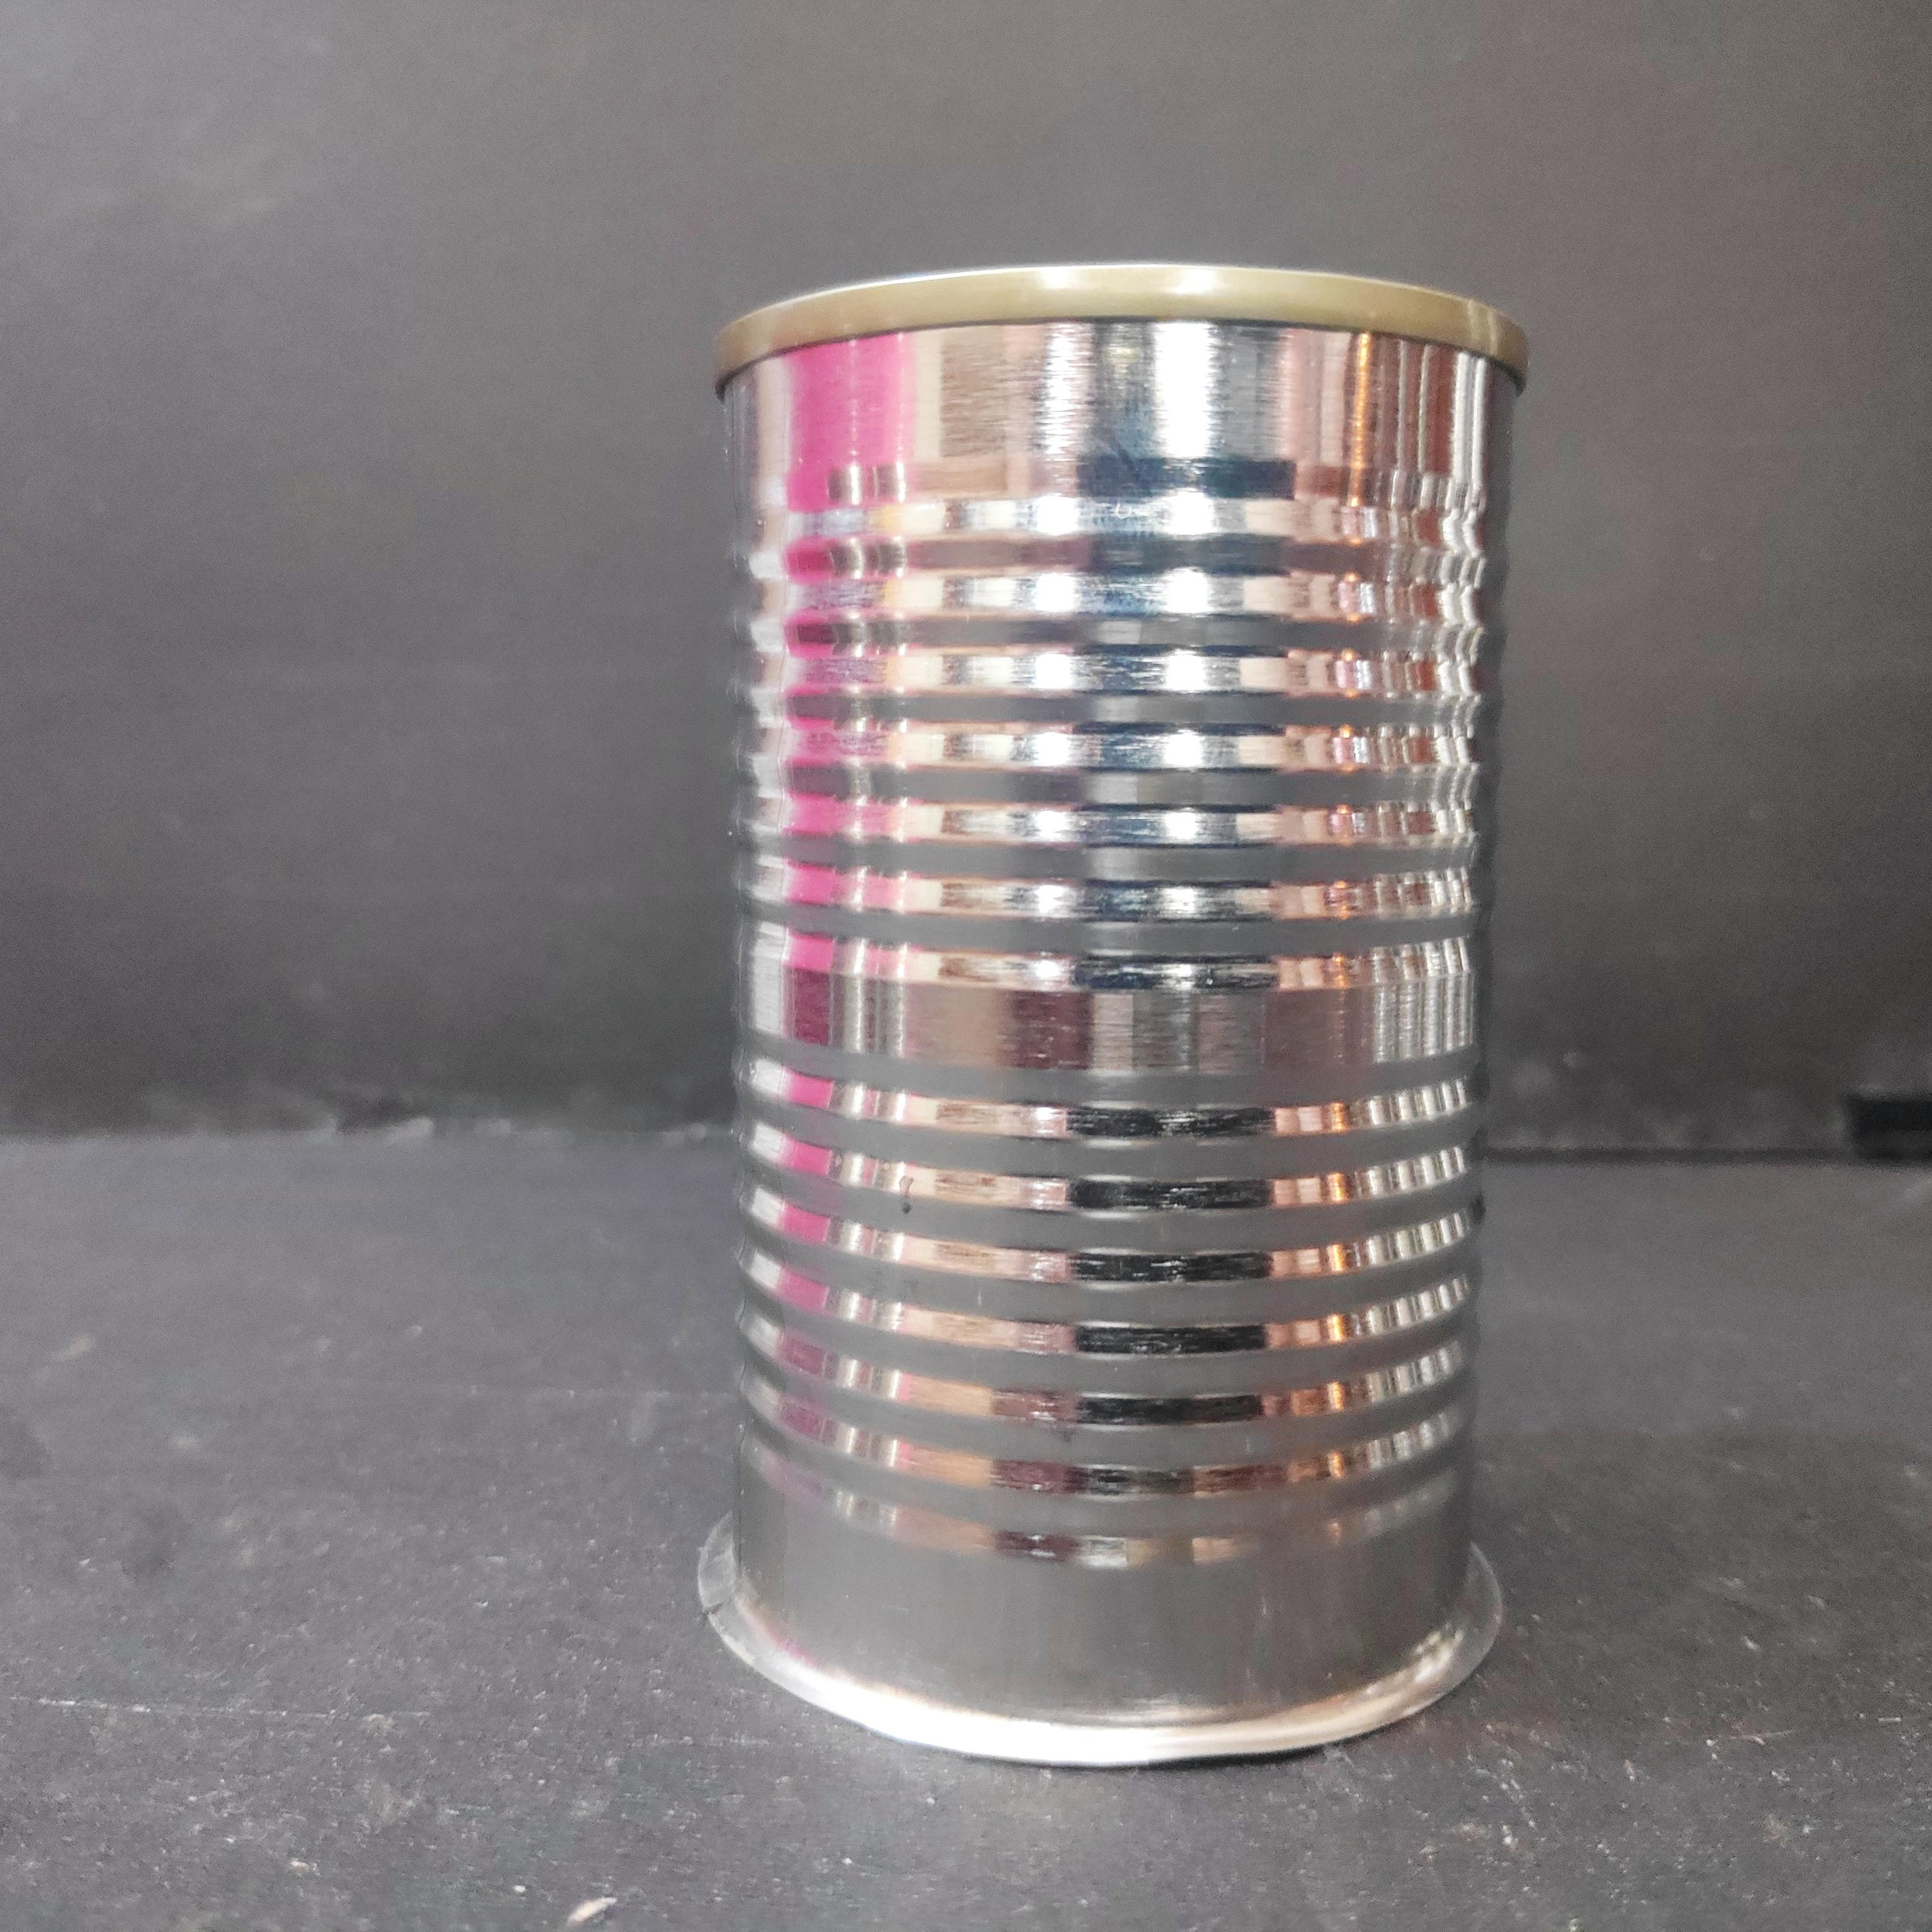No defect: (694, 244, 1543, 1785)
